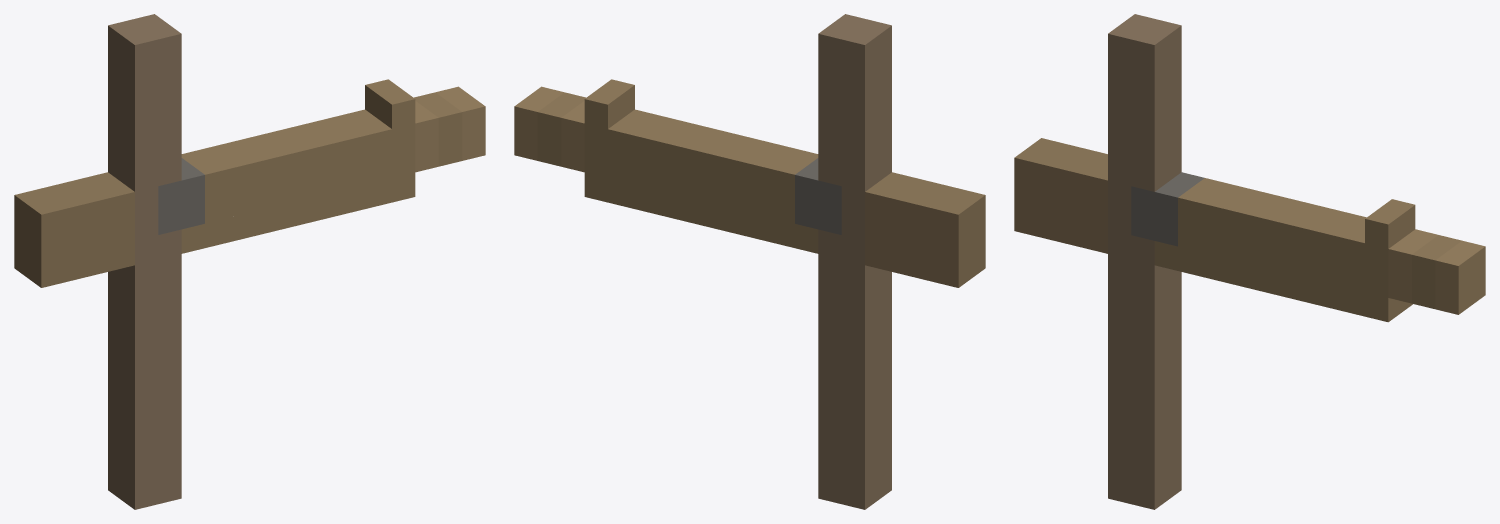
Rendered from senal_camino_02.glb.
The picture shows the model from 3 angles, left to right: view 1: azimuth 30°, elevation 25°; view 2: azimuth 150°, elevation 25°; view 3: azimuth 330°, elevation 25°; orthographic projection.
Visible parts, largest first — view 1: senal_camino_02; view 2: senal_camino_02; view 3: senal_camino_02.
Boxes of the visible parts, x1,y1,x2,y2 form: senal_camino_02: (14, 14, 485, 509); senal_camino_02: (514, 14, 985, 509); senal_camino_02: (1014, 14, 1485, 509).
Size of the model in its own units: 1.9 by 1.9 by 0.2.
